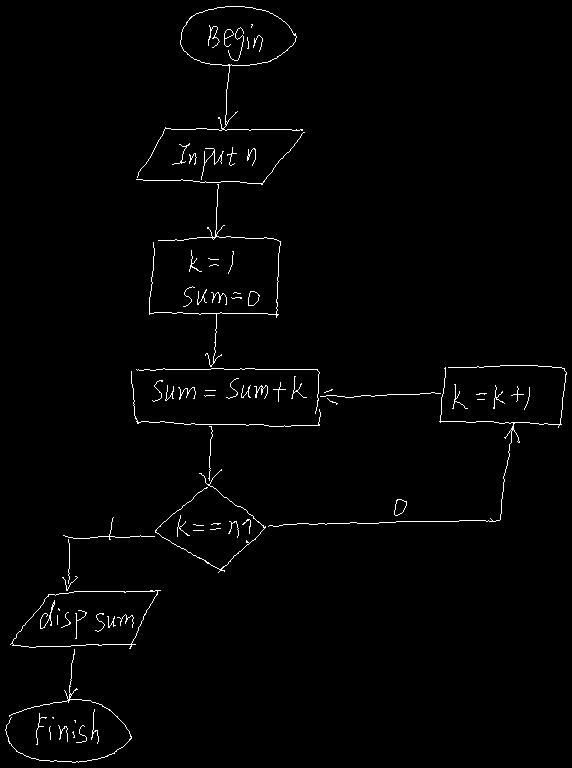arrow: (268, 422, 519, 526), (62, 535, 154, 590), (320, 389, 440, 404), (199, 426, 221, 485), (218, 64, 237, 129), (207, 184, 224, 239), (205, 313, 221, 366), (64, 649, 77, 702)
data: (136, 127, 304, 184), (10, 590, 160, 648)
decision: (155, 484, 265, 572)
process: (131, 368, 320, 426), (149, 236, 280, 317), (439, 365, 566, 427)
terminator: (5, 699, 131, 762), (180, 6, 296, 65)
text: (183, 250, 259, 306), (152, 376, 306, 401), (40, 600, 133, 638), (172, 143, 255, 179), (36, 709, 98, 744), (177, 515, 250, 542), (208, 24, 262, 60), (452, 384, 529, 409), (394, 499, 406, 515), (109, 517, 113, 539)
